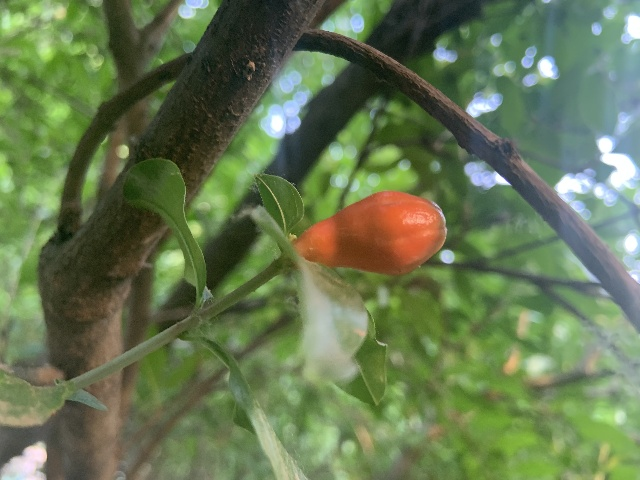bud: (294, 190, 446, 276)
